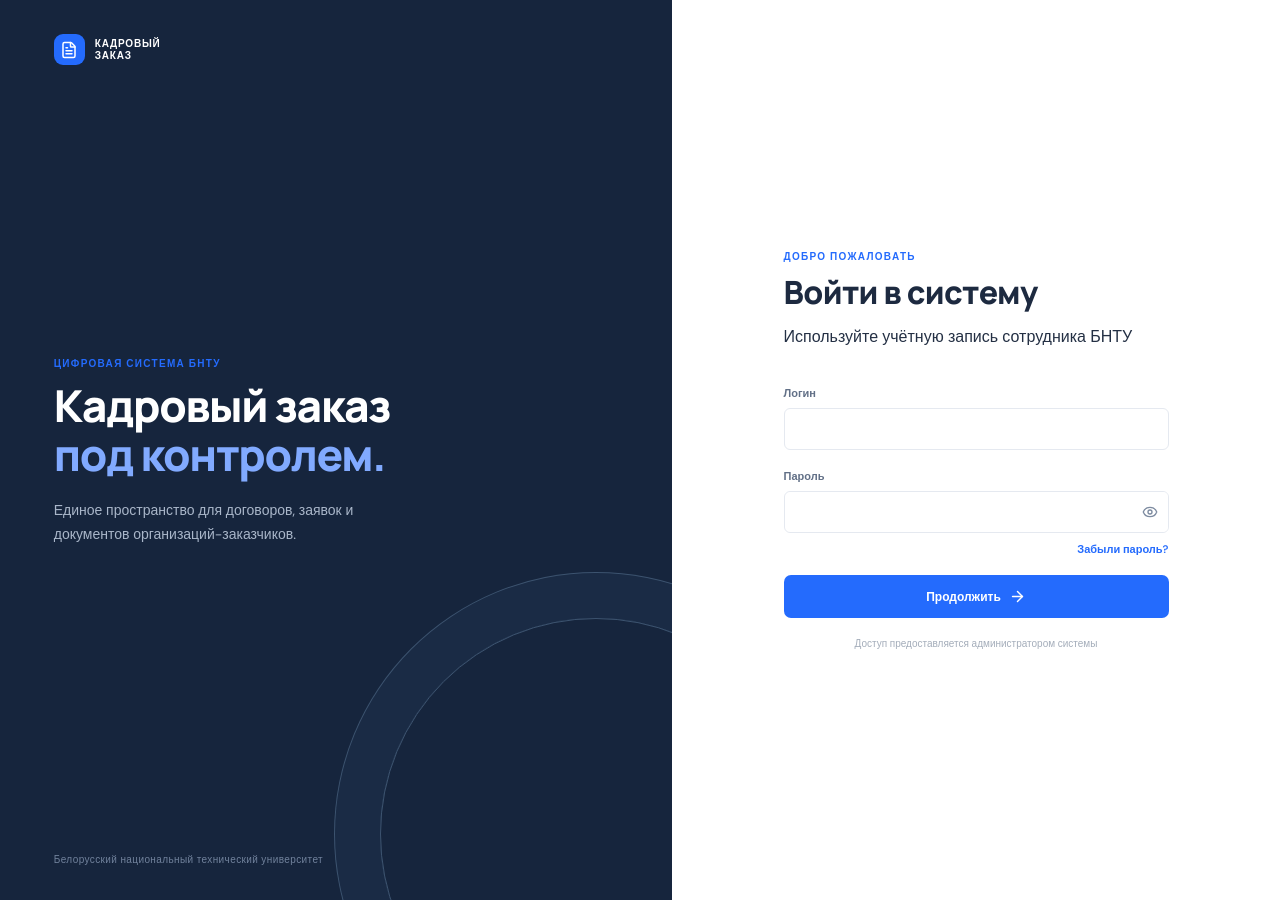
Test: server session and routes under /app › keeps invalid credentials in the login form without redirect loops
In the field labelled "Логин": (976, 429) [784,408,1168,450], type "employee"
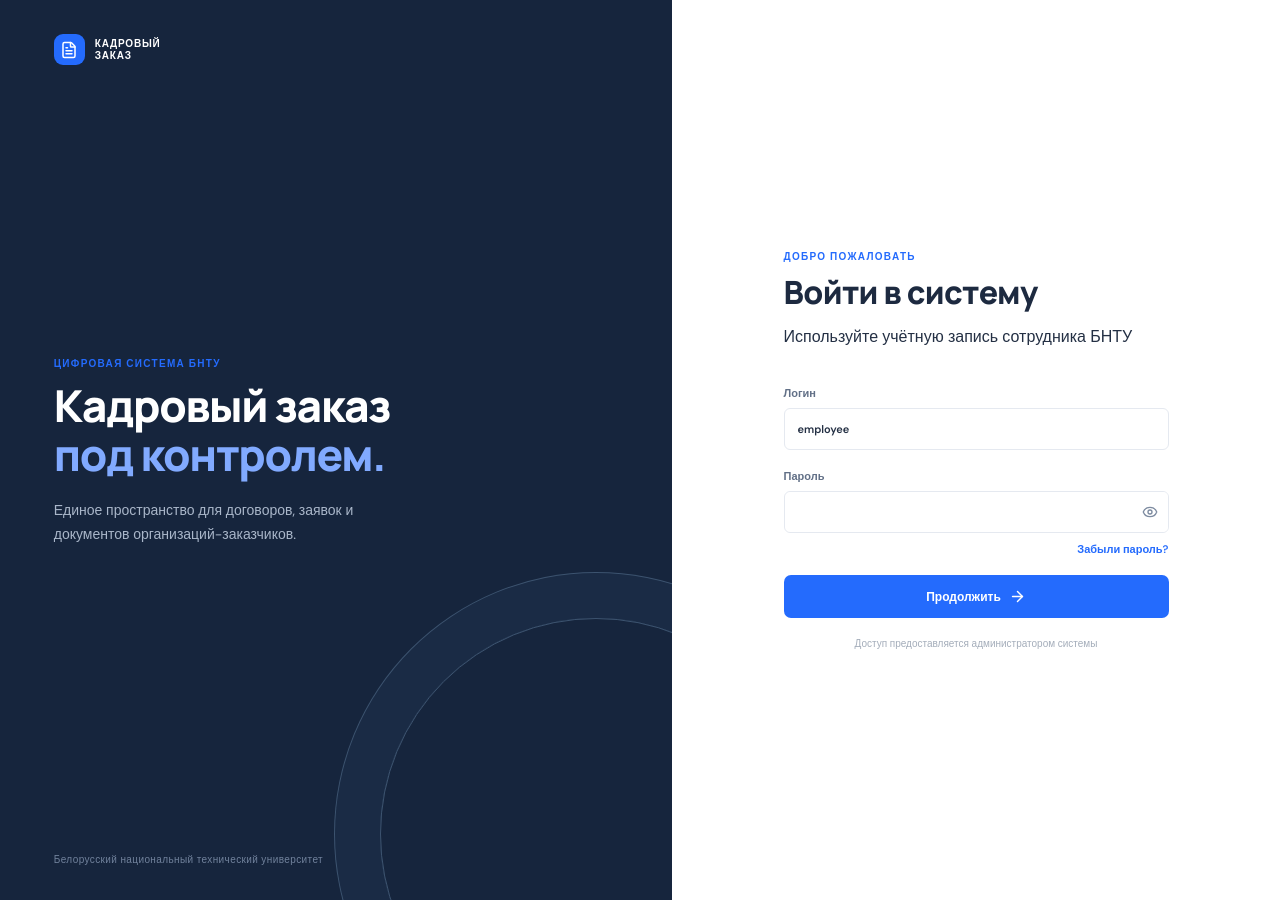
In the password field labelled "Пароль": (958, 512) [784,492,1132,532], type "secret-password"
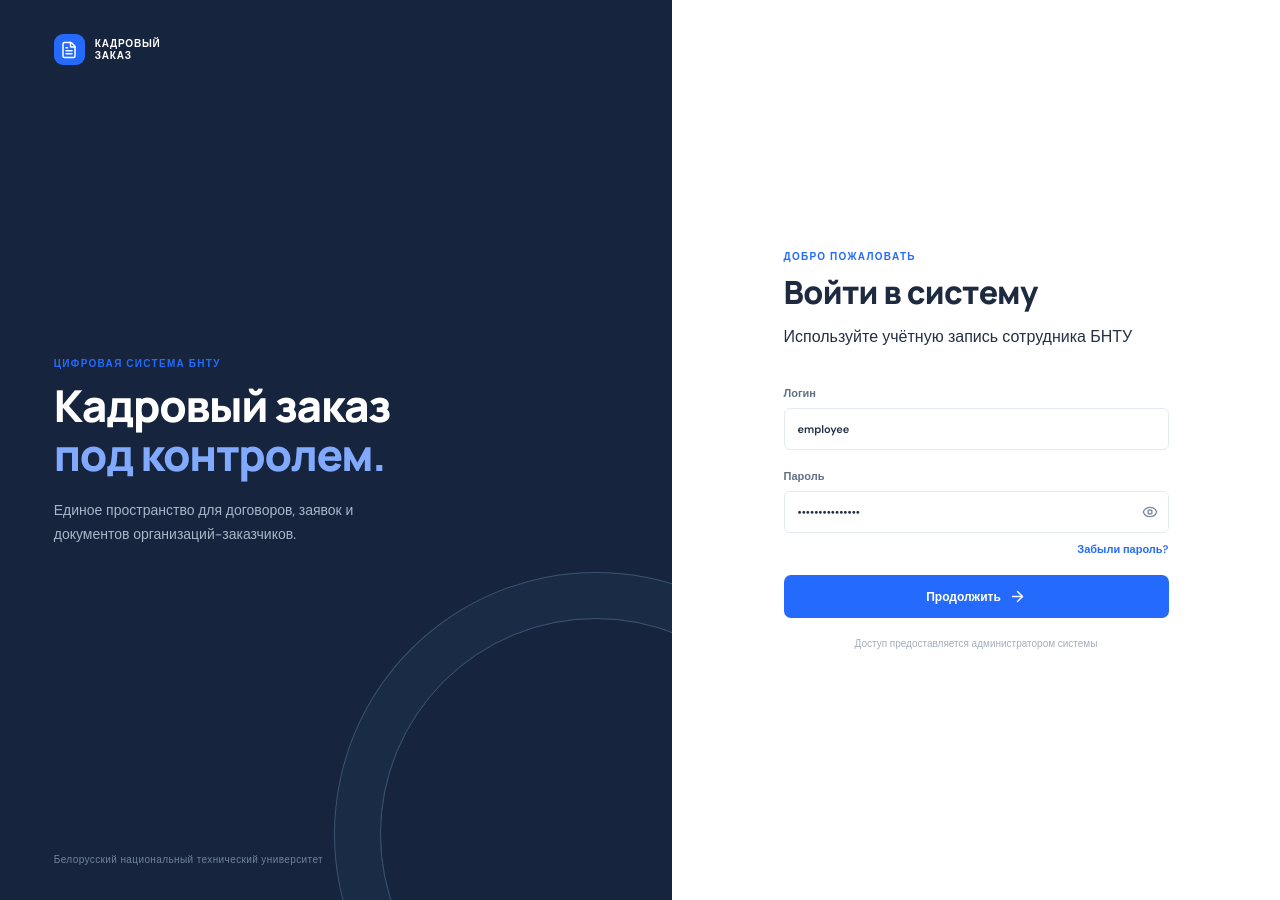
Click the button "Продолжить": click(976, 597) [784,575,1168,618]
(page scrolled)
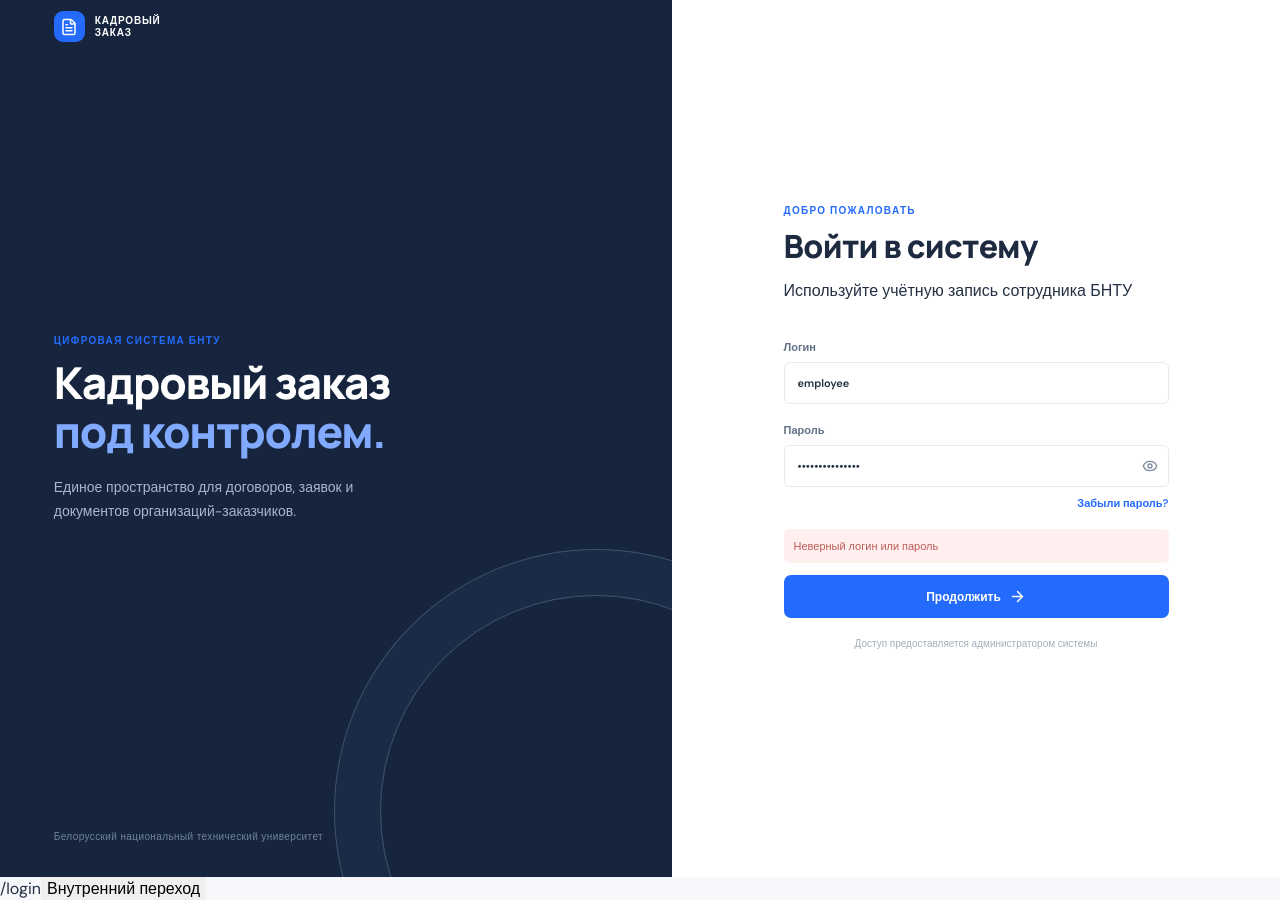
Check: the text with test id "location" reads "/login", box [0,878,41,899]
Check: the message reads "Неверный логин или пароль", box [794,539,938,553]
